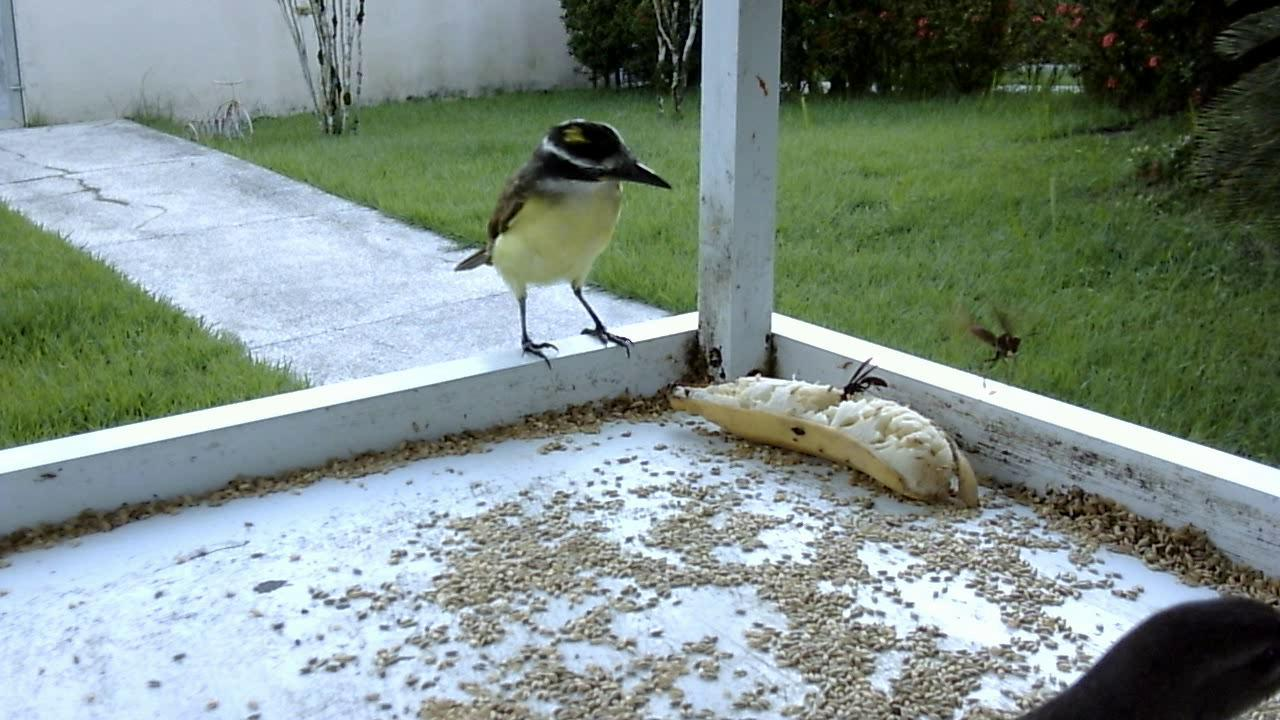bem_te_vi: (439, 105, 673, 382)
chupim: (986, 575, 1280, 720)
